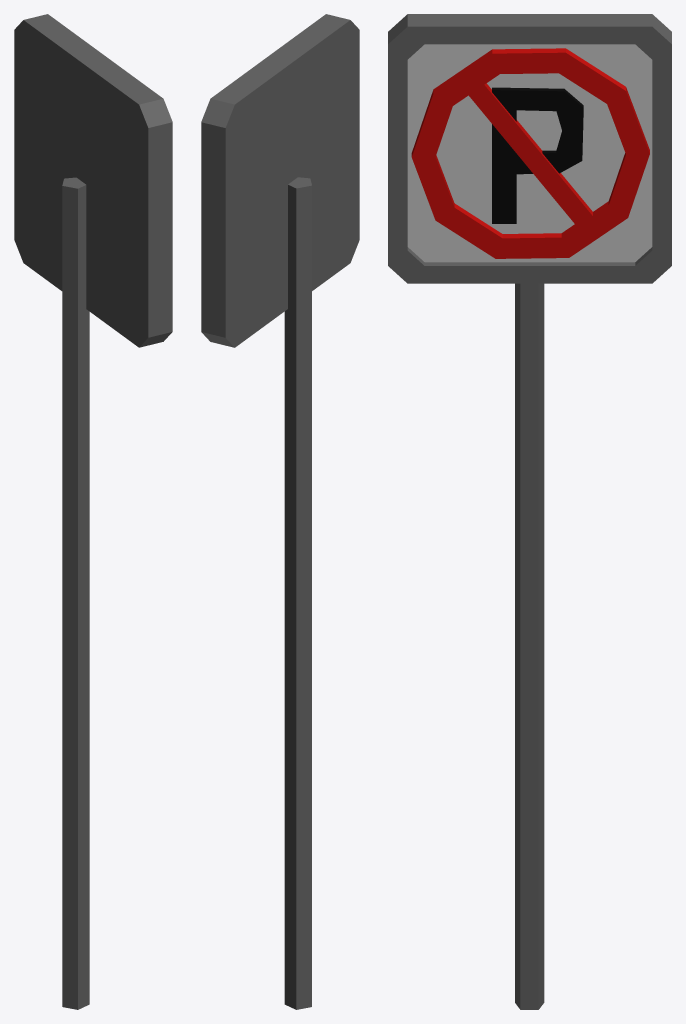
File: prop_Sign_NoParking.glb
The picture shows the model from 3 angles, left to right: view 1: azimuth 30°, elevation 25°; view 2: azimuth 150°, elevation 25°; view 3: azimuth 270°, elevation 25°; orthographic projection. The views are drawn at different scales.
Parts seen in each view (by area): view 1: Parking; view 2: Parking; view 3: Parking.
Part boxes in pixels (x1,y1,x2,y2): Parking: (14,14,172,1009); Parking: (201,14,359,1009); Parking: (388,14,671,1009).
Bounding box in the file's own units: 0.1298 × 2.6 × 0.6726.
